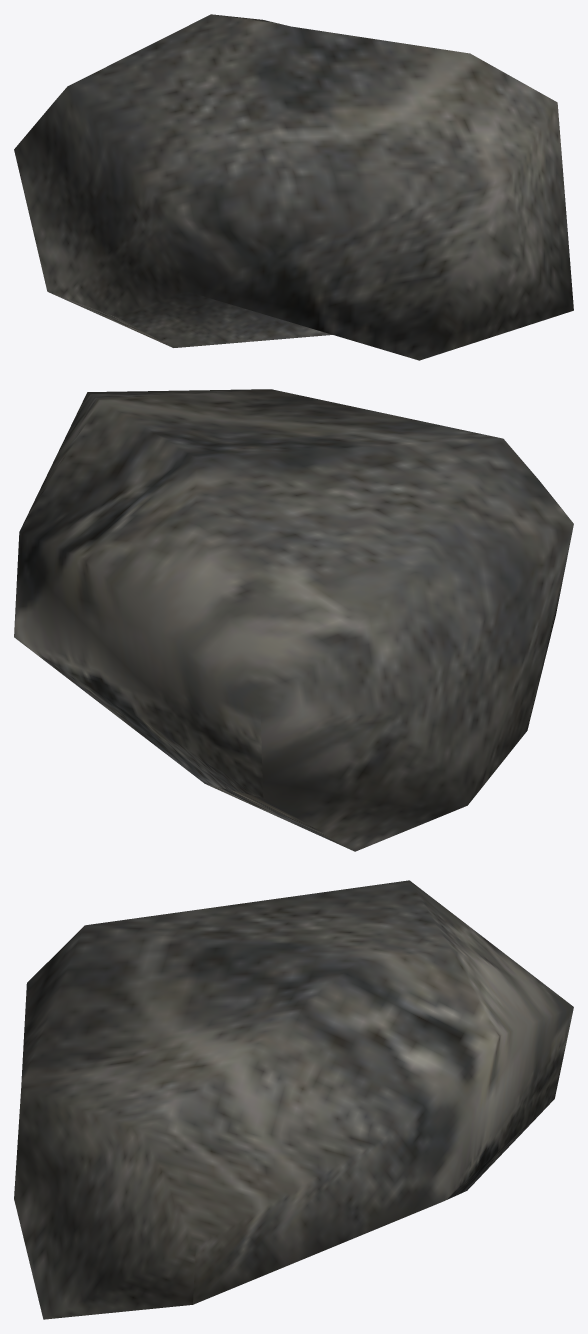
File: SC_yonghengsenlin_shitou06.FBX
The picture shows the model from 3 angles, top to bottom: view 1: azimuth 30°, elevation 25°; view 2: azimuth 150°, elevation 25°; view 3: azimuth 270°, elevation 25°; orthographic projection. The views are drawn at different scales.
Parts seen in each view (by area): view 1: SC_yonghengsenlin_shitou06; view 2: SC_yonghengsenlin_shitou06; view 3: SC_yonghengsenlin_shitou06.
Part boxes in pixels (bbox=[...]): SC_yonghengsenlin_shitou06: bbox=[14, 14, 573, 360]; SC_yonghengsenlin_shitou06: bbox=[14, 389, 573, 851]; SC_yonghengsenlin_shitou06: bbox=[14, 880, 573, 1319].
Size of the model in its own units: 164 by 96.35 by 158.
